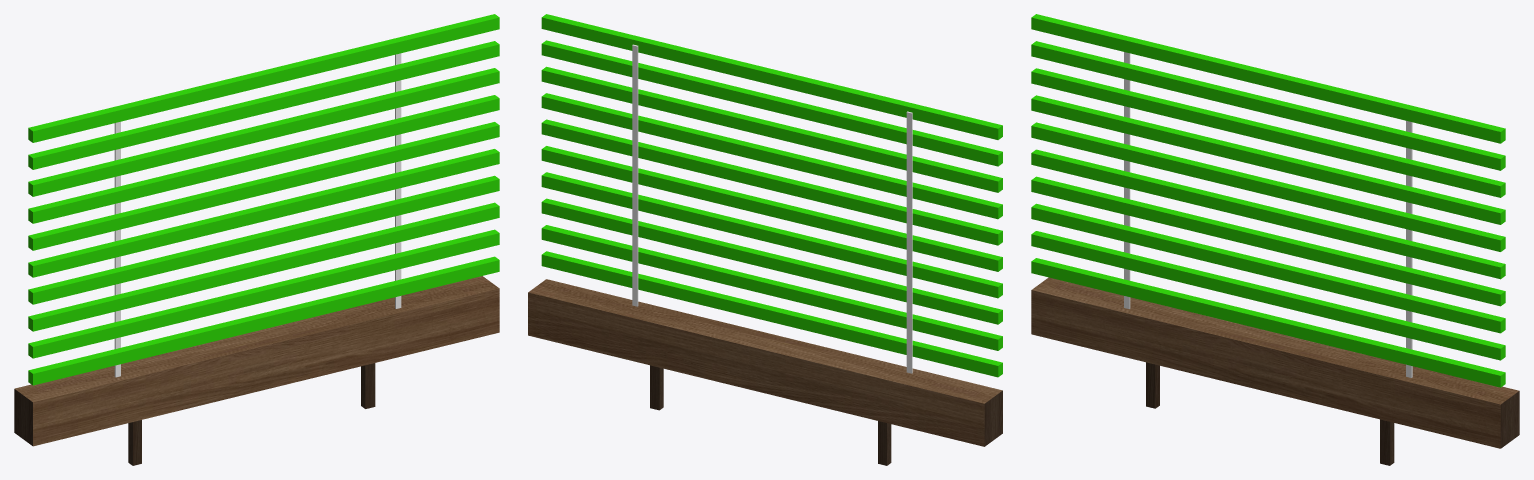
File: Adorno2.fbx
3 views of the same model, side by side, from view 1: azimuth 30°, elevation 25°; view 2: azimuth 150°, elevation 25°; view 3: azimuth 330°, elevation 25° (orthographic). The views are drawn at different scales.
Visible parts, largest first — view 1: Adorno_1, Base_1, Conexion_1; view 2: Adorno_1, Base_1, Conexion_1; view 3: Adorno_1, Base_1, Conexion_1.
Part boxes in pixels (x1,y1,x2,y2): Adorno_1: [28, 14, 499, 385]; Base_1: [14, 276, 499, 465]; Conexion_1: [114, 53, 401, 377]; Adorno_1: [541, 14, 1002, 377]; Base_1: [528, 279, 1002, 465]; Conexion_1: [632, 44, 912, 373]; Adorno_1: [1031, 14, 1505, 387]; Base_1: [1031, 277, 1519, 465]; Conexion_1: [1124, 52, 1412, 377].
Bounding box in the file's own units: 574 × 430 × 39.84.
3 materials, 1 textured.
